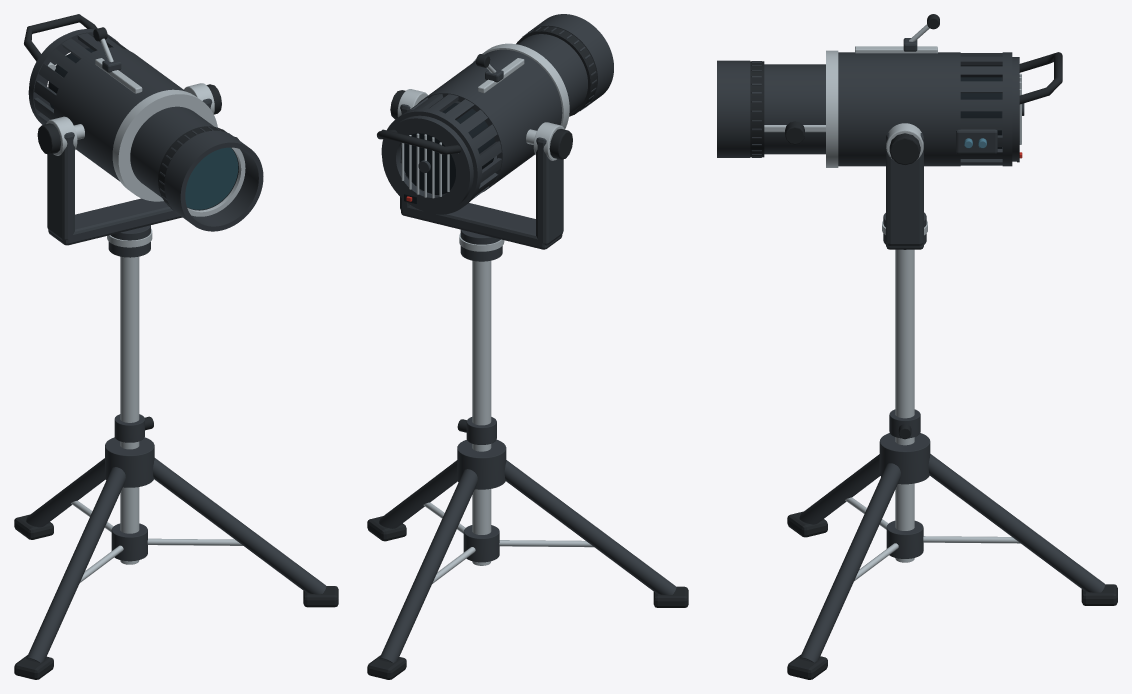
The model's file is city-theatrical-followspot.glb.
The picture shows the model from 3 angles, left to right: view 1: azimuth 30°, elevation 25°; view 2: azimuth 150°, elevation 25°; view 3: azimuth 270°, elevation 25°; orthographic projection. The views are drawn at different scales.
Visible parts, largest first — view 1: Assembly | Graphite satin equipment enamel, Assembly | Brushed stainless hardware, Assembly | Dark rubber pads grips and screen border, Assembly | Opaque dark blue optical placeholder, no transpar; view 2: Assembly | Graphite satin equipment enamel, Assembly | Brushed stainless hardware, Assembly | Dark rubber pads grips and screen border, Assembly | Charcoal matte recessed interiors; view 3: Assembly | Graphite satin equipment enamel, Assembly | Brushed stainless hardware, Assembly | Dark rubber pads grips and screen border, Assembly | Charcoal matte recessed interiors.
Part boxes in pixels (left/top/right/bottom): Assembly | Graphite satin equipment enamel: left=26, top=29, right=326, bottom=662; Assembly | Brushed stainless hardware: left=46, top=38, right=245, bottom=582; Assembly | Dark rubber pads grips and screen border: left=14, top=14, right=338, bottom=679; Assembly | Opaque dark blue optical placeholder, no transpar: left=185, top=147, right=238, bottom=209; Assembly | Graphite satin equipment enamel: left=379, top=14, right=676, bottom=662; Assembly | Brushed stainless hardware: left=397, top=43, right=593, bottom=583; Assembly | Dark rubber pads grips and screen border: left=367, top=26, right=688, bottom=679; Assembly | Charcoal matte recessed interiors: left=401, top=103, right=495, bottom=203; Assembly | Graphite satin equipment enamel: left=717, top=38, right=1104, bottom=662; Assembly | Brushed stainless hardware: left=764, top=24, right=1021, bottom=581; Assembly | Dark rubber pads grips and screen border: left=750, top=14, right=1117, bottom=679; Assembly | Charcoal matte recessed interiors: left=960, top=77, right=1019, bottom=162.
Bounding box in the file's own units: 1.05 × 1.77 × 1.11.
